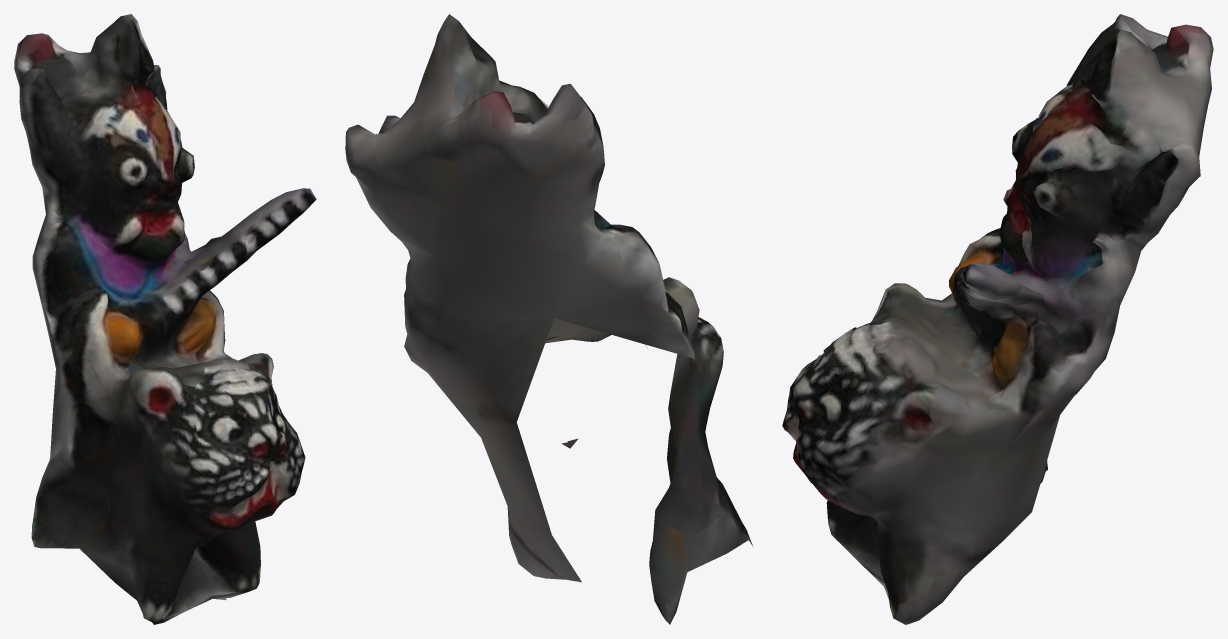
File: hall.glb
3 renders of one model, left to right at view 1: azimuth 30°, elevation 25°; view 2: azimuth 150°, elevation 25°; view 3: azimuth 270°, elevation 25°, orthographic. The views are drawn at different scales.
Size of the model in its own units: 0.148 by 0.2846 by 0.1915.
1 material, 1 textured.
